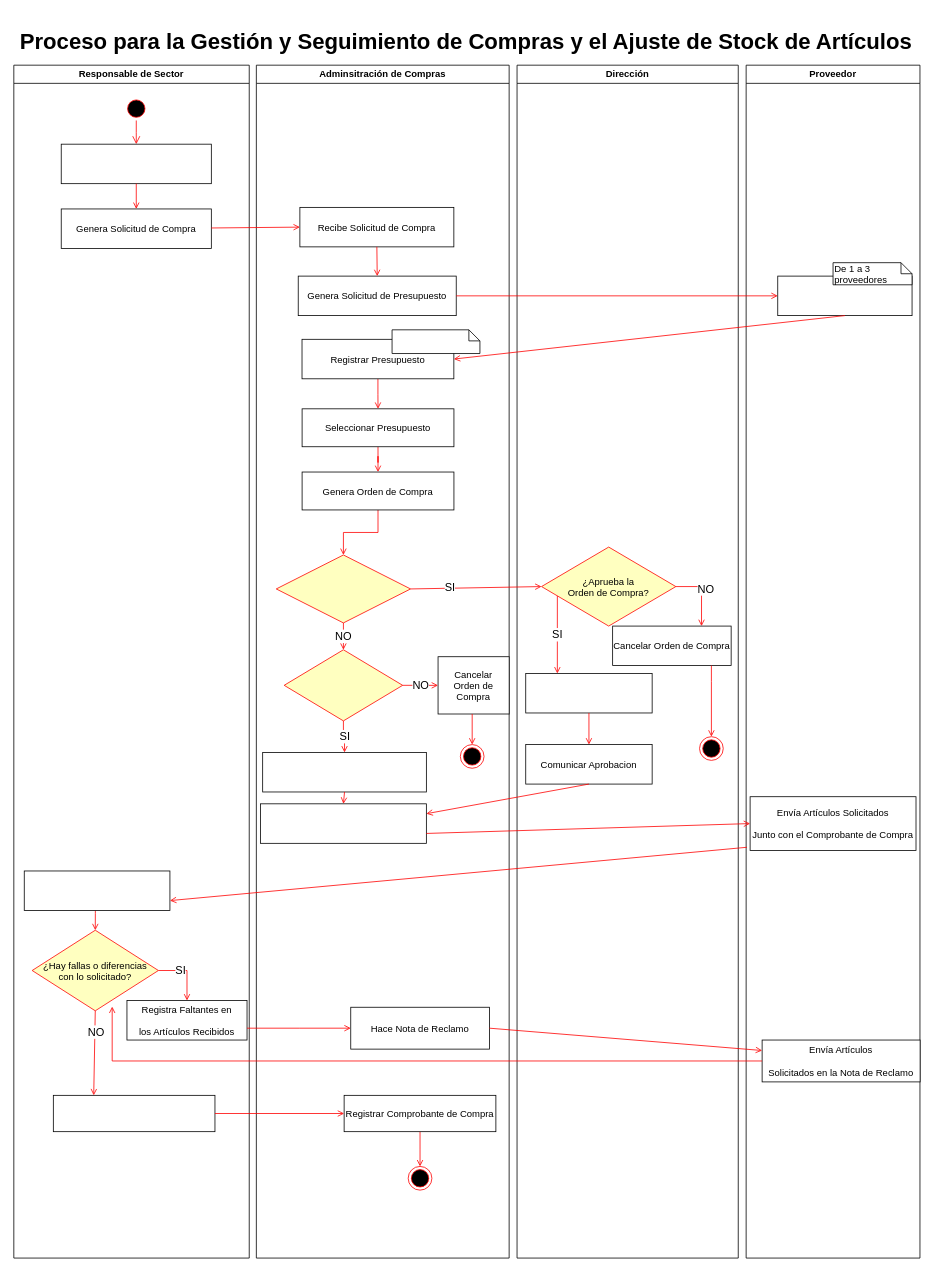
Some shapes in this 935 by 1272 pixel diagram are drawn without their labels. The centre of each missing label's shape, as x and y in pixels:
Aprobar Orden de Compra: pixel 588 693
Aprueba la Orden de Compra?: pixel 343 685
Aprueba Orden de Compra: pixel 344 772
Detecta faltantantes en Stock: pixel 135 163
Envía Orden de Compra Aprobada: pixel 343 823
Genera Presupuesto: pixel 844 295
Puede ser parcial: pixel 435 341
Recibe los Artículos: pixel 96 890
Registra Recepcion de Articulos: pixel 134 1113
¿Supera monto permitido?: pixel 343 588
